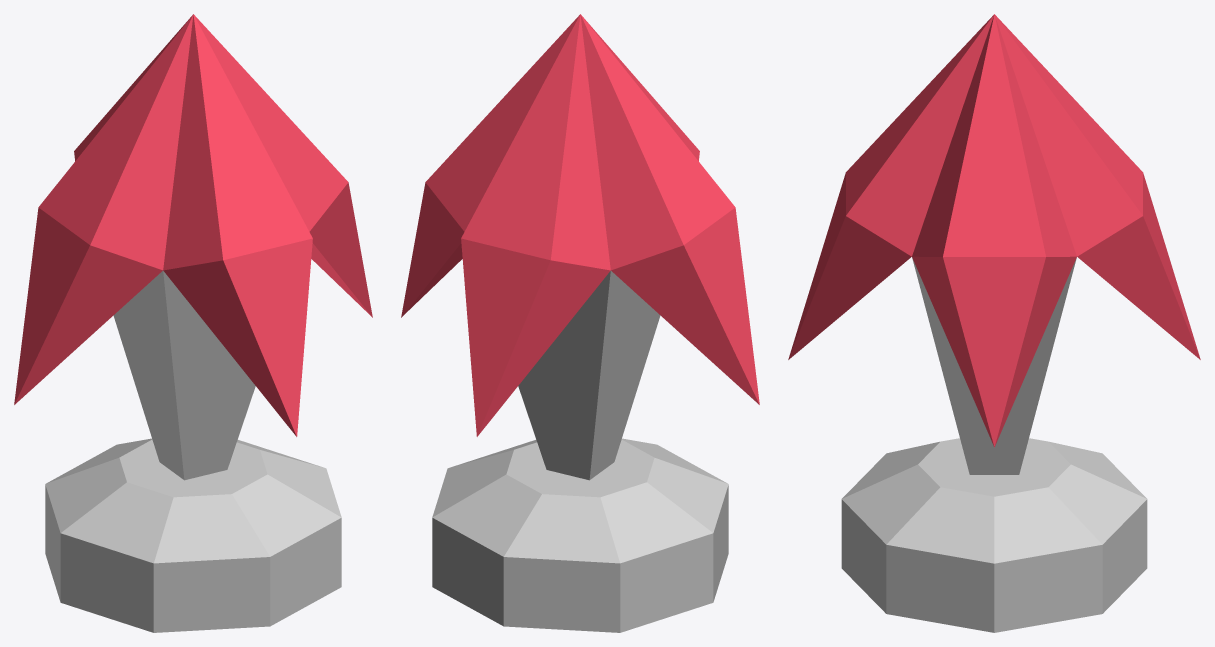
File: item_booster_defense.fbx
The picture shows the model from 3 angles, left to right: view 1: azimuth 30°, elevation 25°; view 2: azimuth 150°, elevation 25°; view 3: azimuth 270°, elevation 25°; orthographic projection.
Visible parts, largest first — view 1: Cube; view 2: Cube; view 3: Cube.
Part boxes in pixels (x1,y1,x2,y2): Cube: (14,14,372,632); Cube: (401,14,759,632); Cube: (788,14,1200,632).
Bounding box in the file's own units: 270 × 400 × 270.
